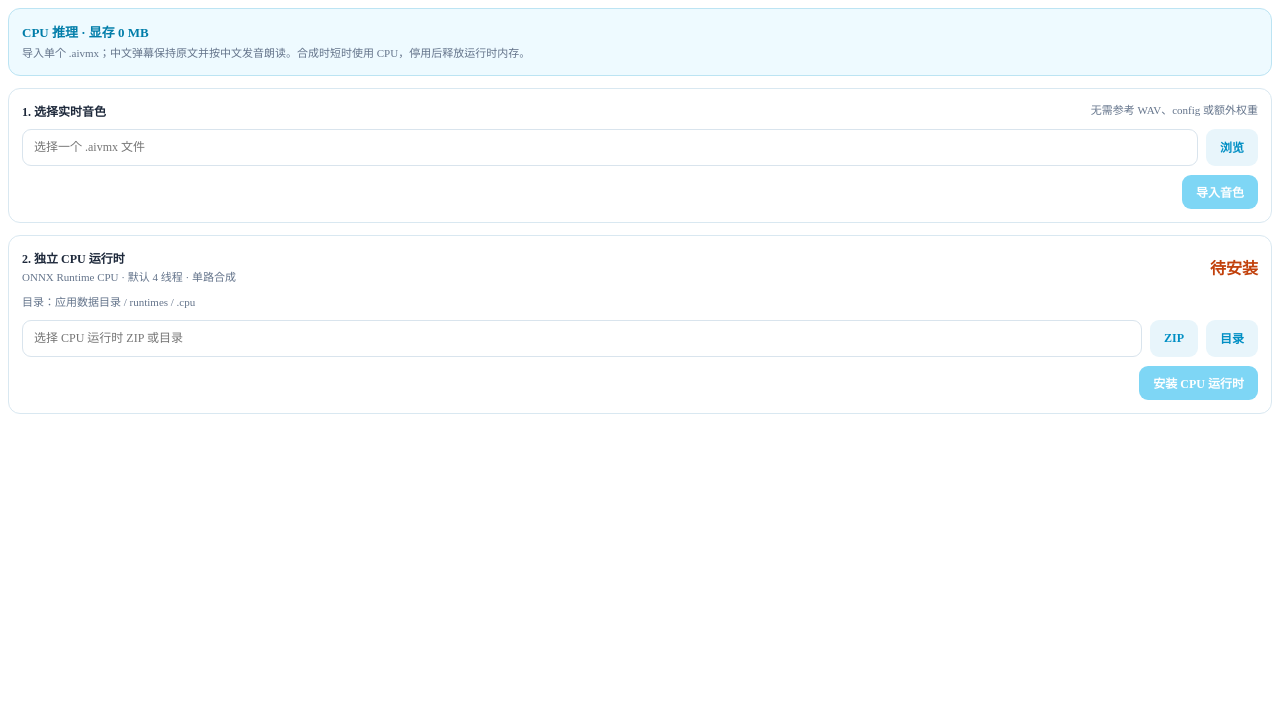
Test case: AivmxImportPanel › inspects one aivmx and displays its model, rights, languages, and zero-vram mode
The image size is (1280, 720).
Step 1. Click the button with test id "pick-aivmx" → (1232,147), box [1206,128,1258,166]
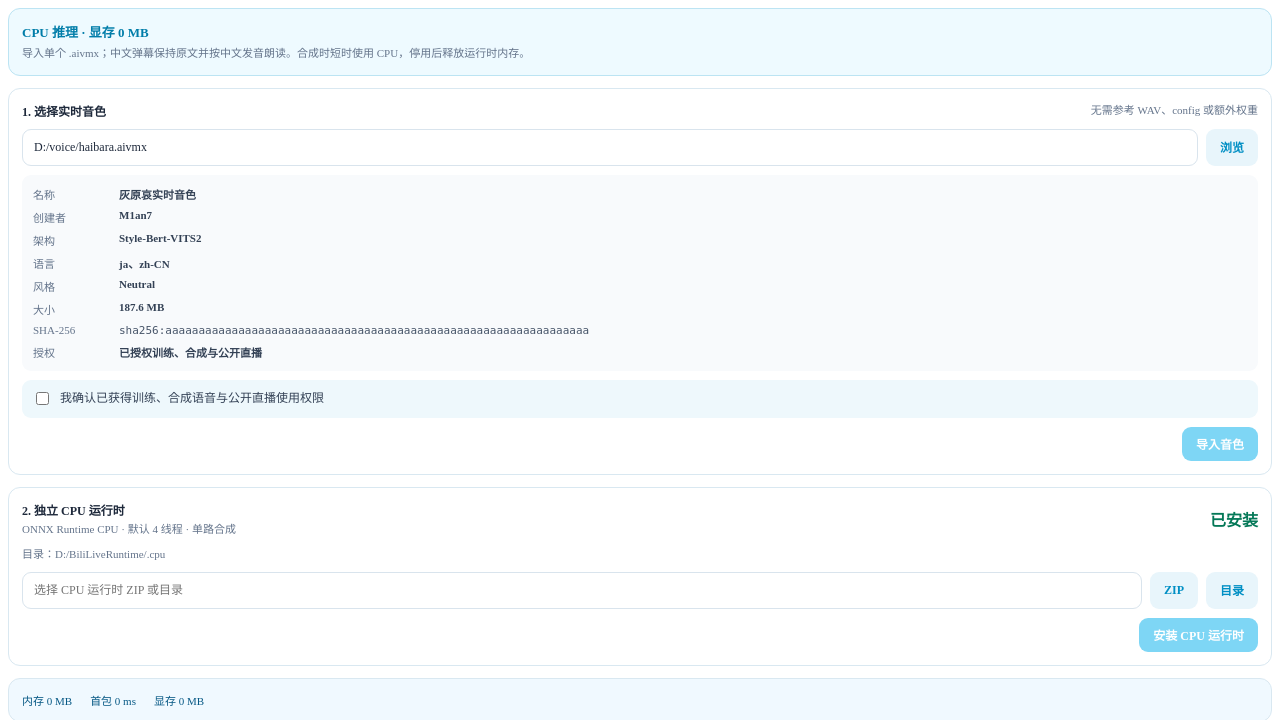
Check: the text "灰原哀实时音色" is shown, box [119,188,196,200]
Check: the text "M1an7" is shown, box [119,208,152,220]
Check: the text "zh-CN" is shown, box [119,258,170,270]
